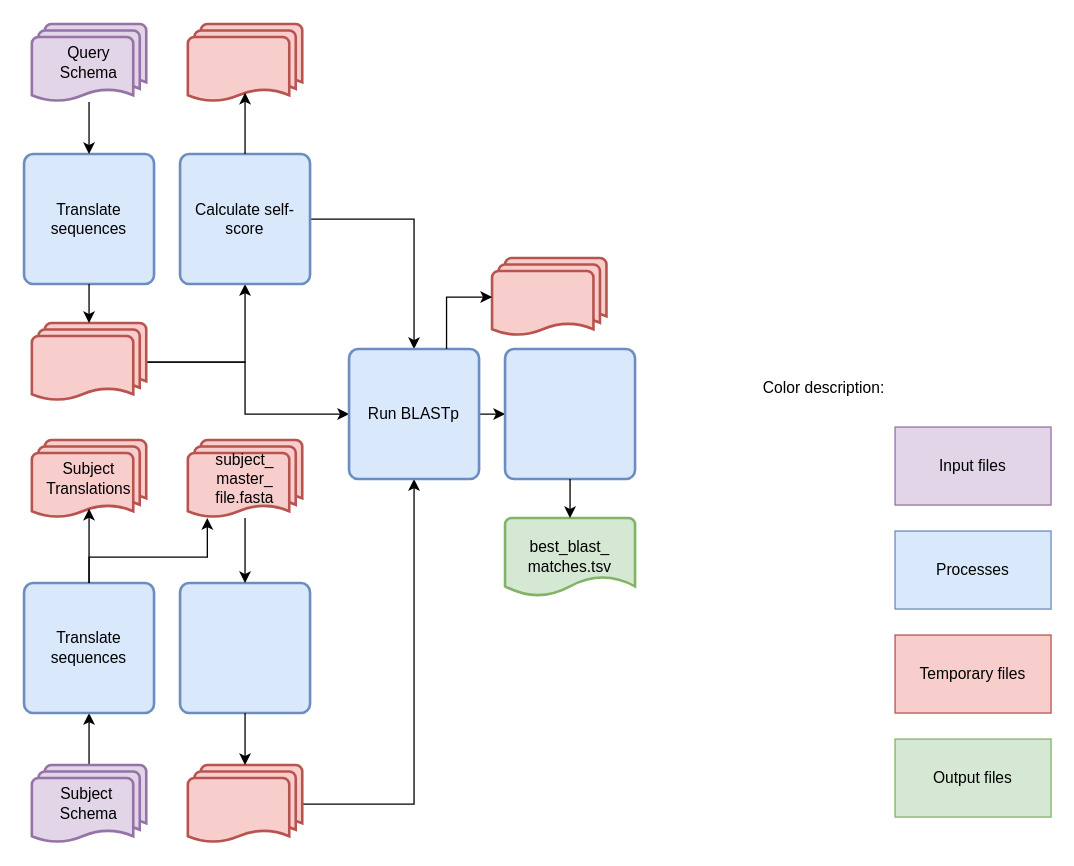
Image size: 1074x866. Some labels were removed from this diagram. Each missing label, with the centre of its shape:
Blast_db_ prot: point 244,803
blastp_ results: point 548,296
Create BLASTp database: point 244,647
Query Translations: point 88,361
self_score_ folder: point 244,62
Write Results: point 569,413
